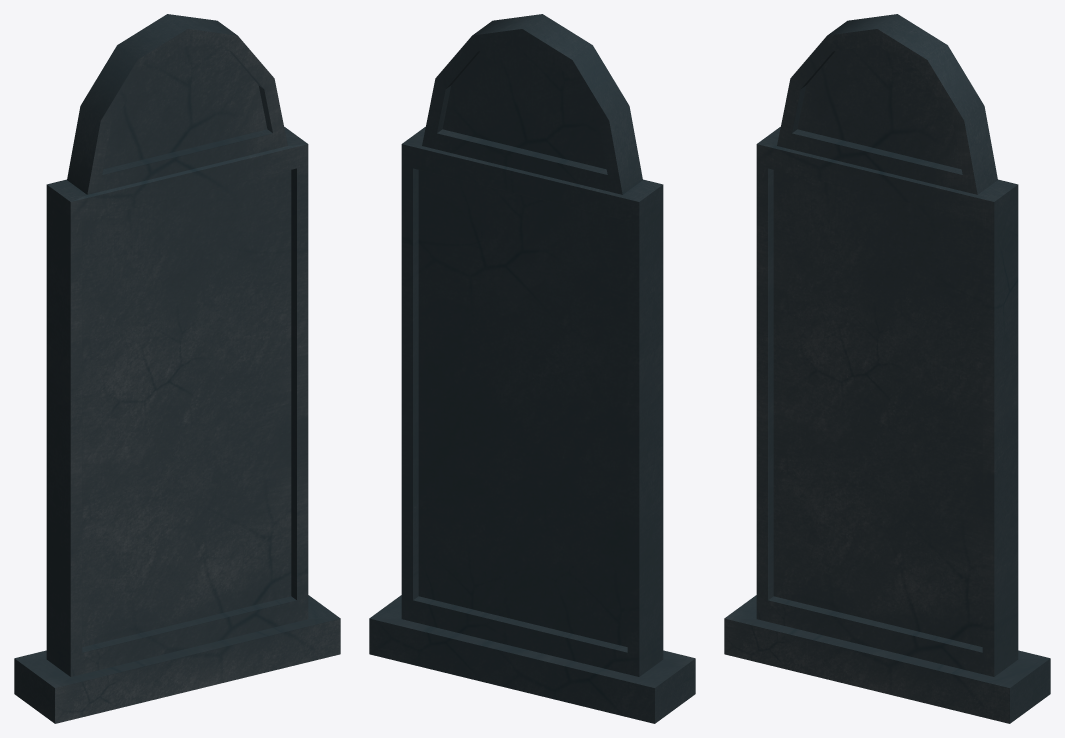
File: Gravestone23_Model.fbx
3 renders of one model, left to right at view 1: azimuth 30°, elevation 25°; view 2: azimuth 150°, elevation 25°; view 3: azimuth 330°, elevation 25°, orthographic.
Visible parts, largest first — view 1: Gravestone23_Model; view 2: Gravestone23_Model; view 3: Gravestone23_Model.
Part boxes in pixels (x1=…): Gravestone23_Model: x1=14, y1=14, x2=340, y2=723; Gravestone23_Model: x1=369, y1=14, x2=695, y2=723; Gravestone23_Model: x1=724, y1=14, x2=1050, y2=723.
Bounding box in the file's own units: 114 × 249 × 28.23.
